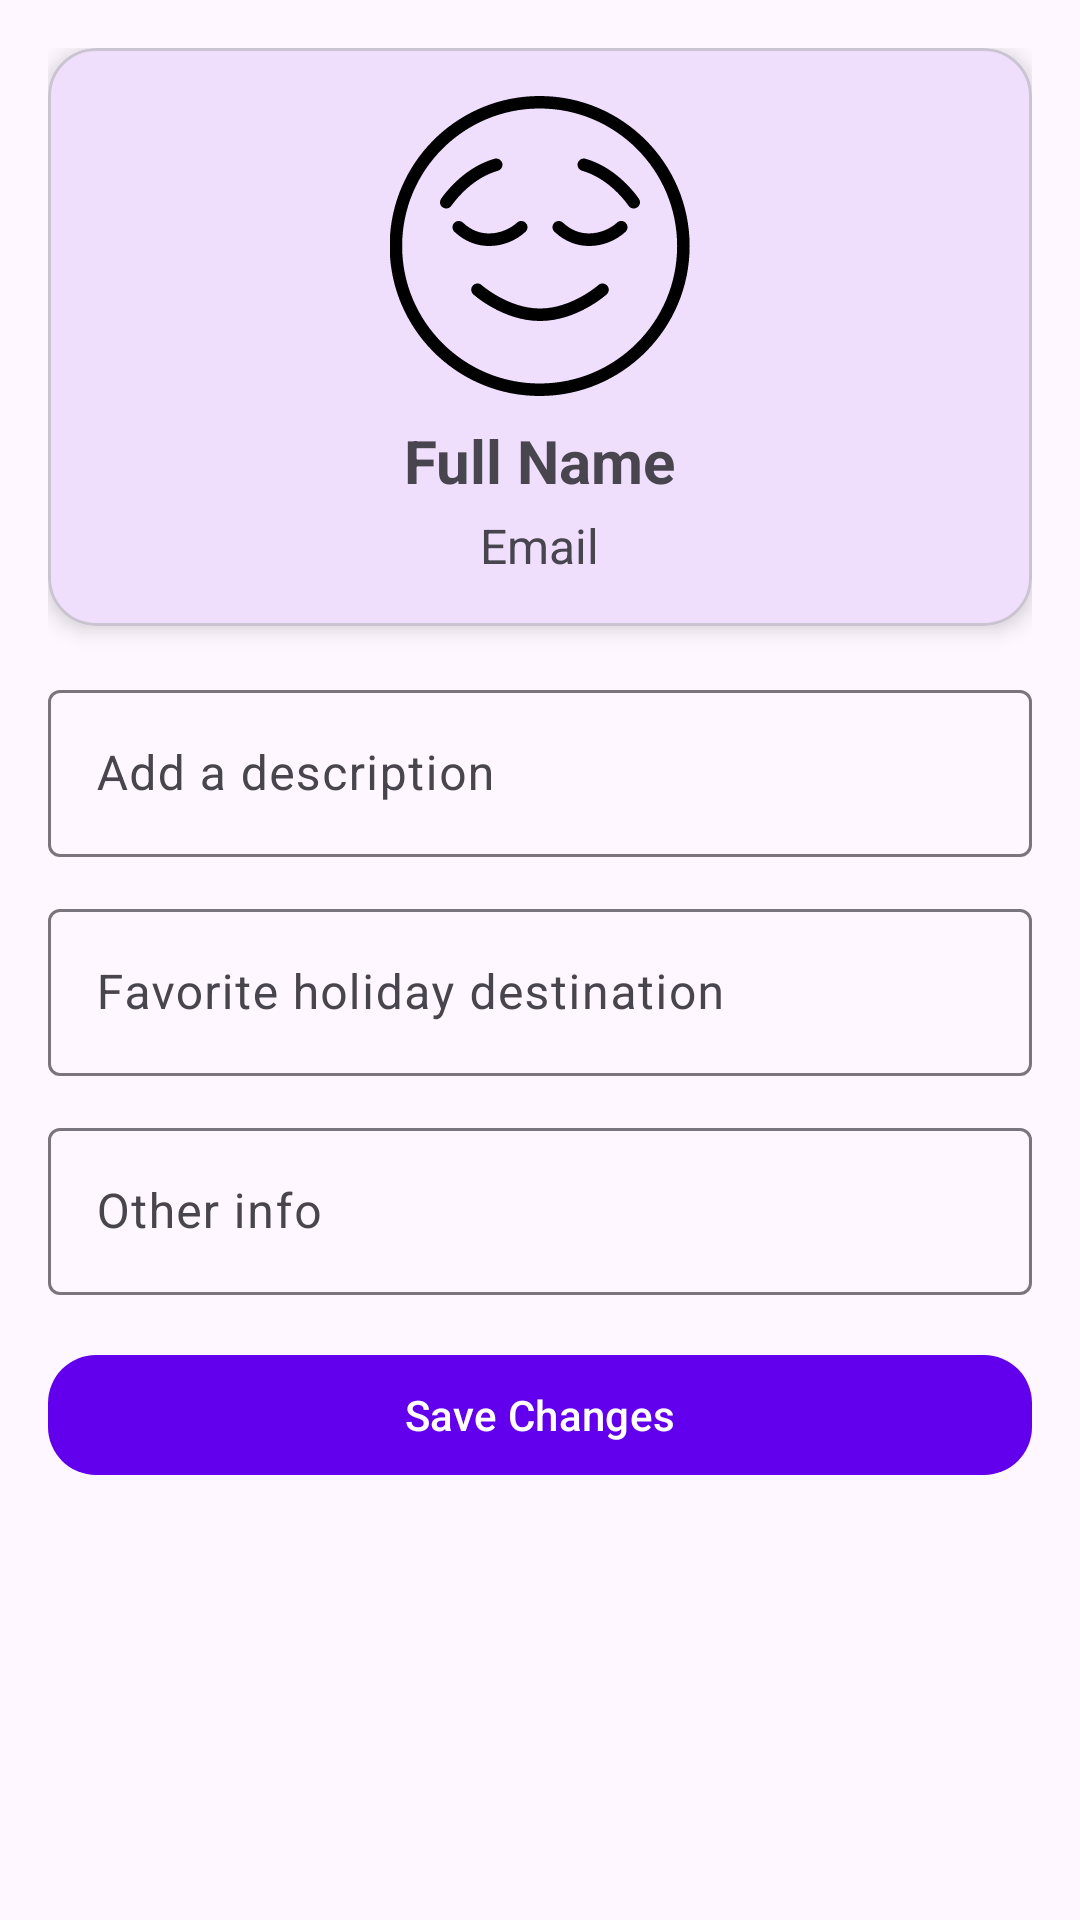

Icons on this 1080×1920 Android screen, each with the point to tap as (x,y):
user: (540,246)
